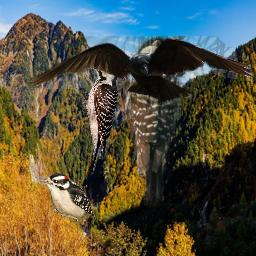Crow: (28, 36, 254, 114)
Woodpecker: (109, 36, 187, 214), (82, 60, 120, 177), (38, 173, 96, 224)
